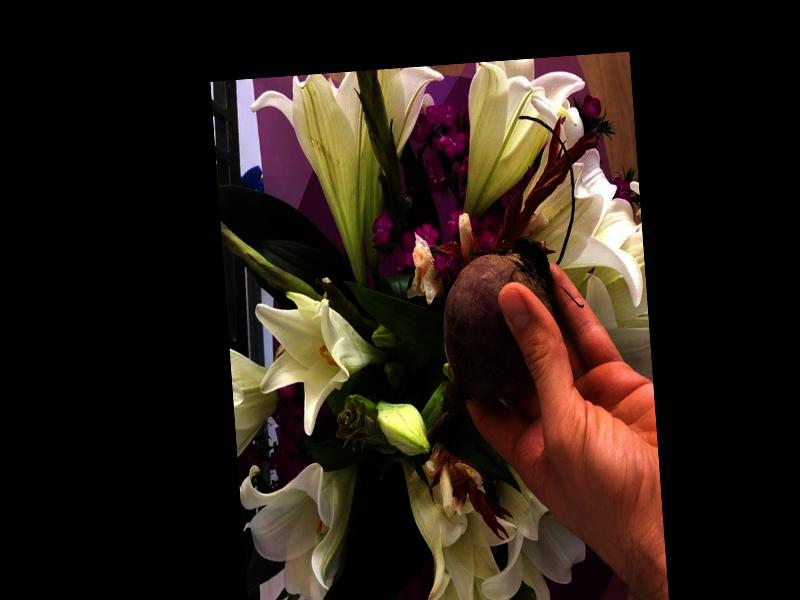Beet: (411, 235, 563, 444)
